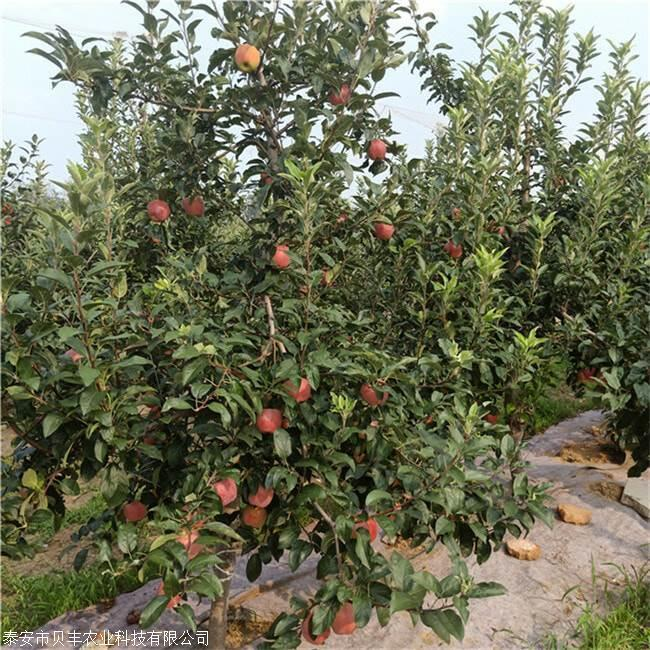apple: (233, 42, 260, 72), (240, 503, 265, 528), (256, 408, 280, 434), (271, 428, 291, 457), (146, 199, 168, 224)
